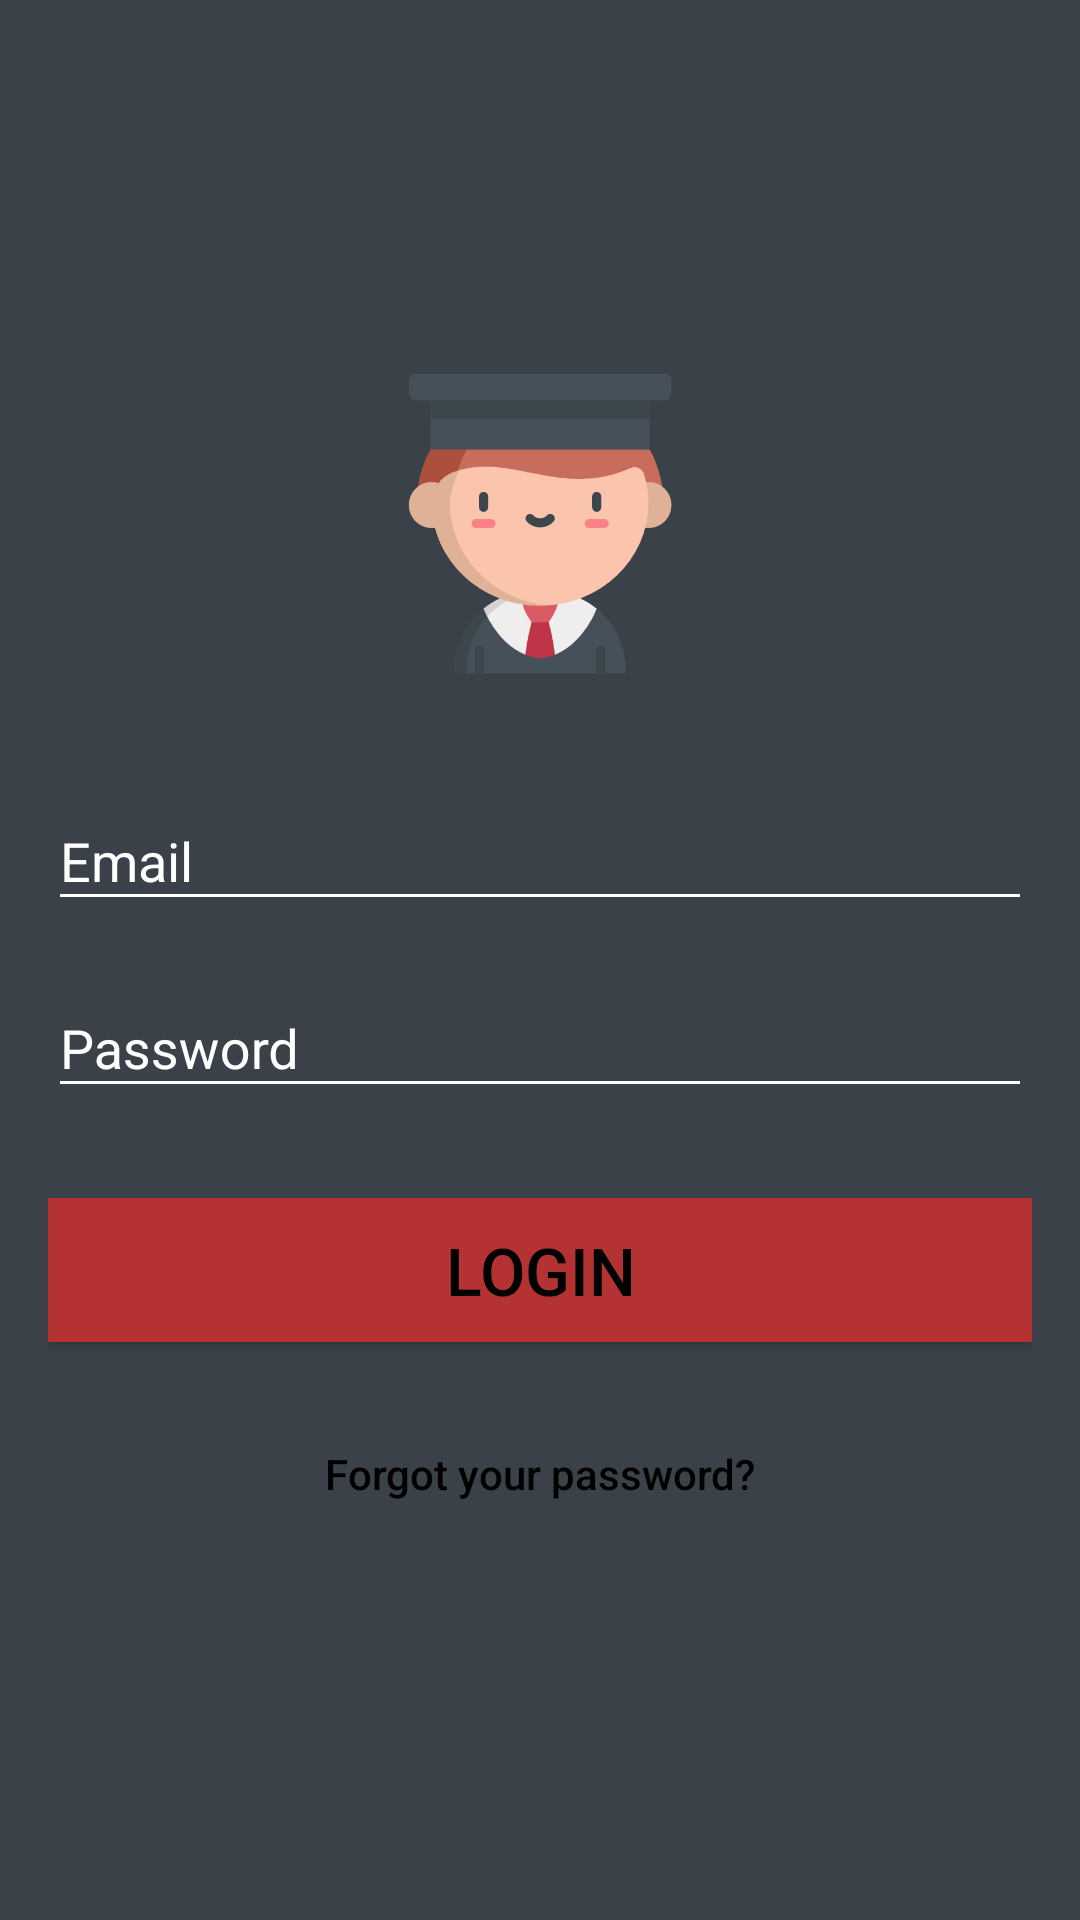

Icons on this 1080px x 1920px Android screen, each with its box as BBox(x1, y1, x2, y2):
student login: BBox(409, 449, 672, 659)
